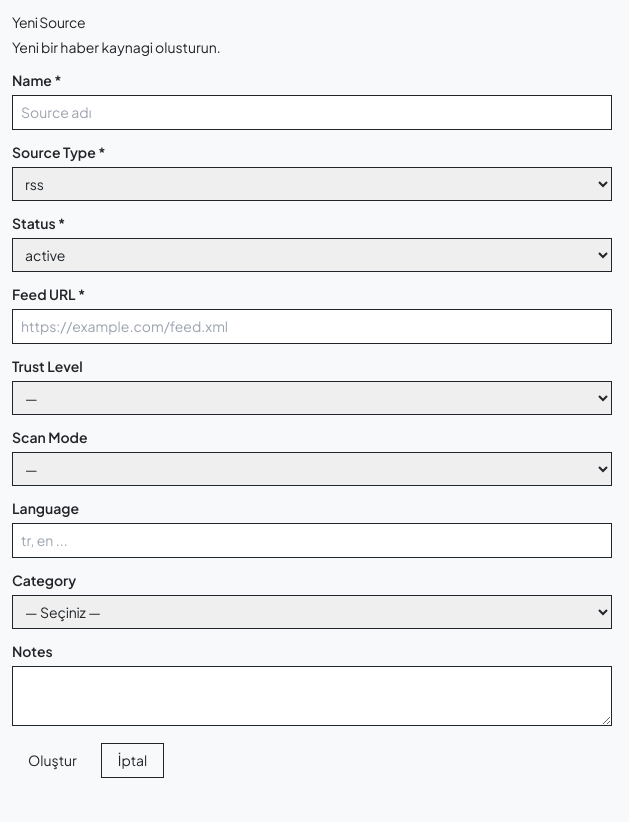
Test case: SourceForm / Create page smoke tests › shows name required validation error
Click the button "Oluştur".
click(52, 760)  # box [12, 743, 93, 778]
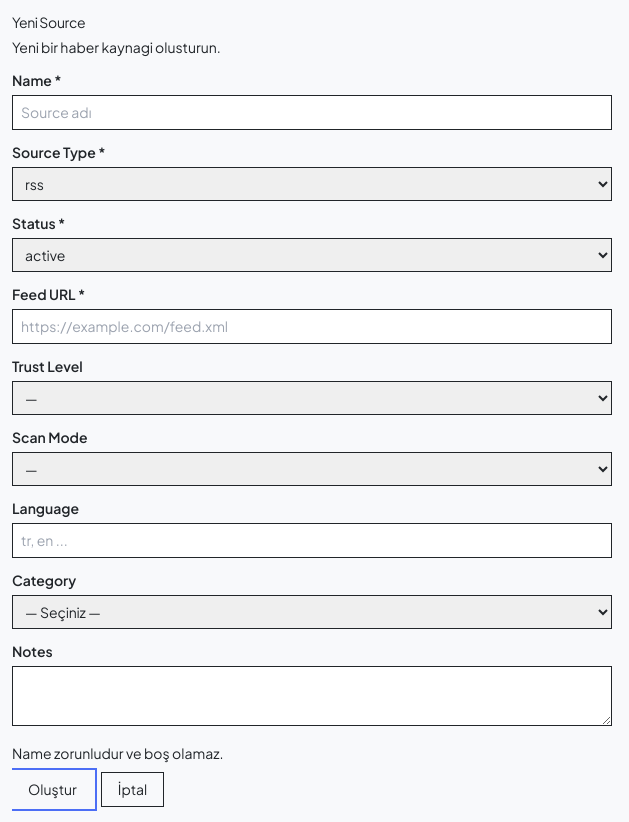
Check: the text "Name zorunludur ve boş olamaz." is shown, box [12, 744, 224, 762]
